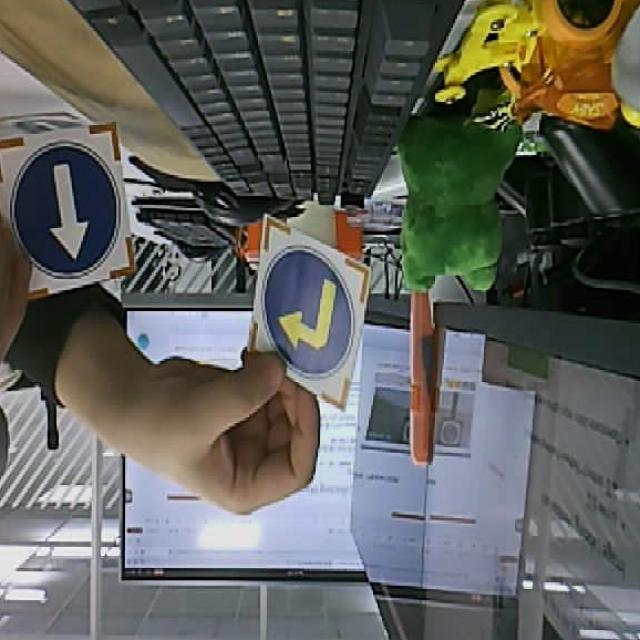straight: (0, 123, 139, 299)
turn: (247, 209, 372, 414)
